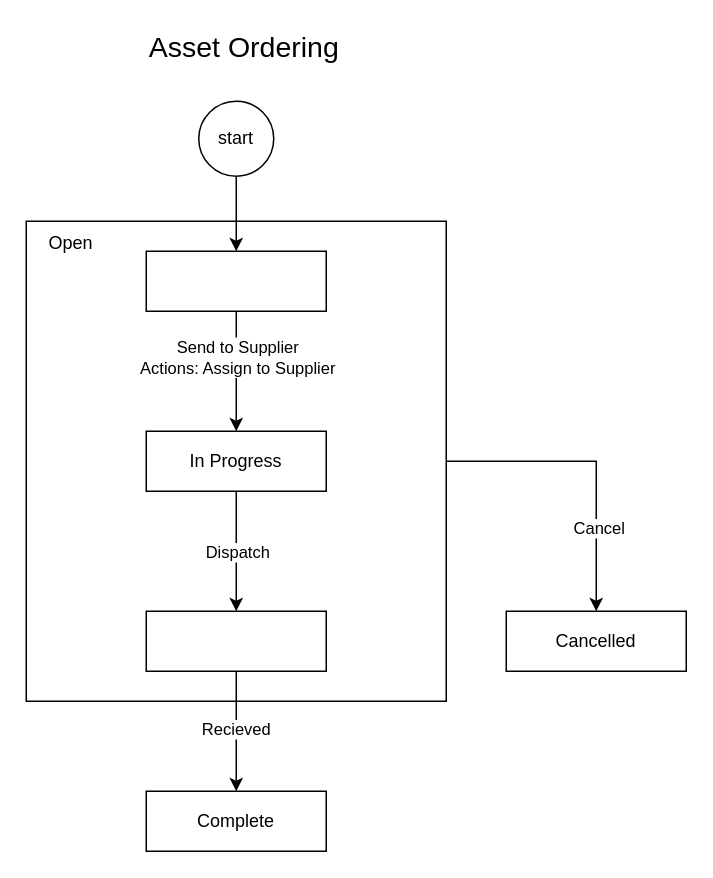
The diagram is 713 pixels wide and 878 high, and some of its shapes have lost their labels. Here are the shapes that lost their labels. From the top down, the centre of each, then its label:
At (235,280): "Pending".
At (235,640): "Dispatched".
